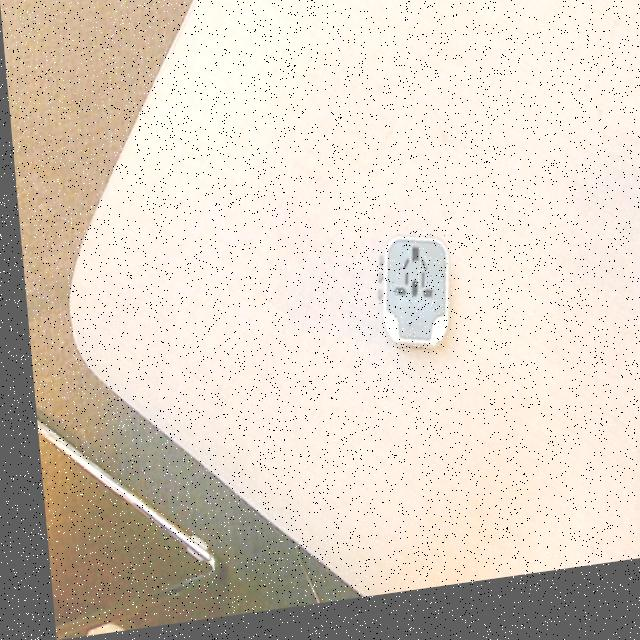adapter: (366, 239, 449, 366)
